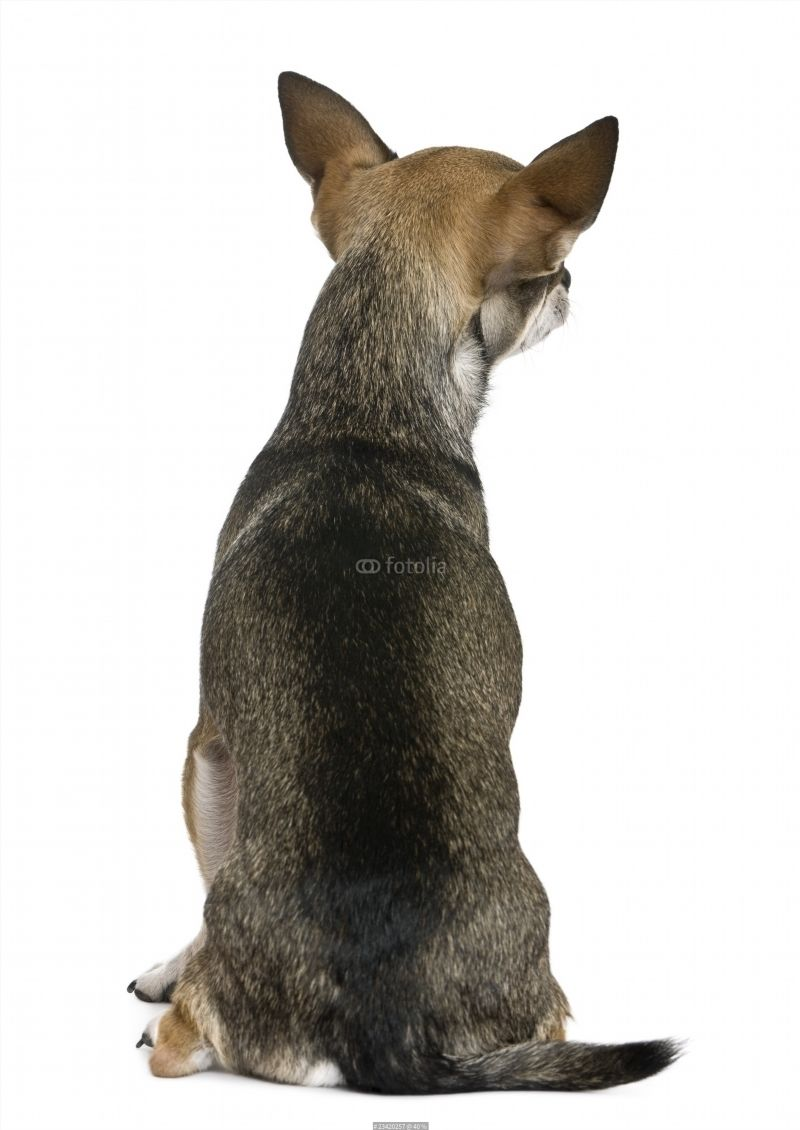dog: (133, 68, 692, 1089)
